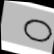no answer: (20, 16, 54, 45)
